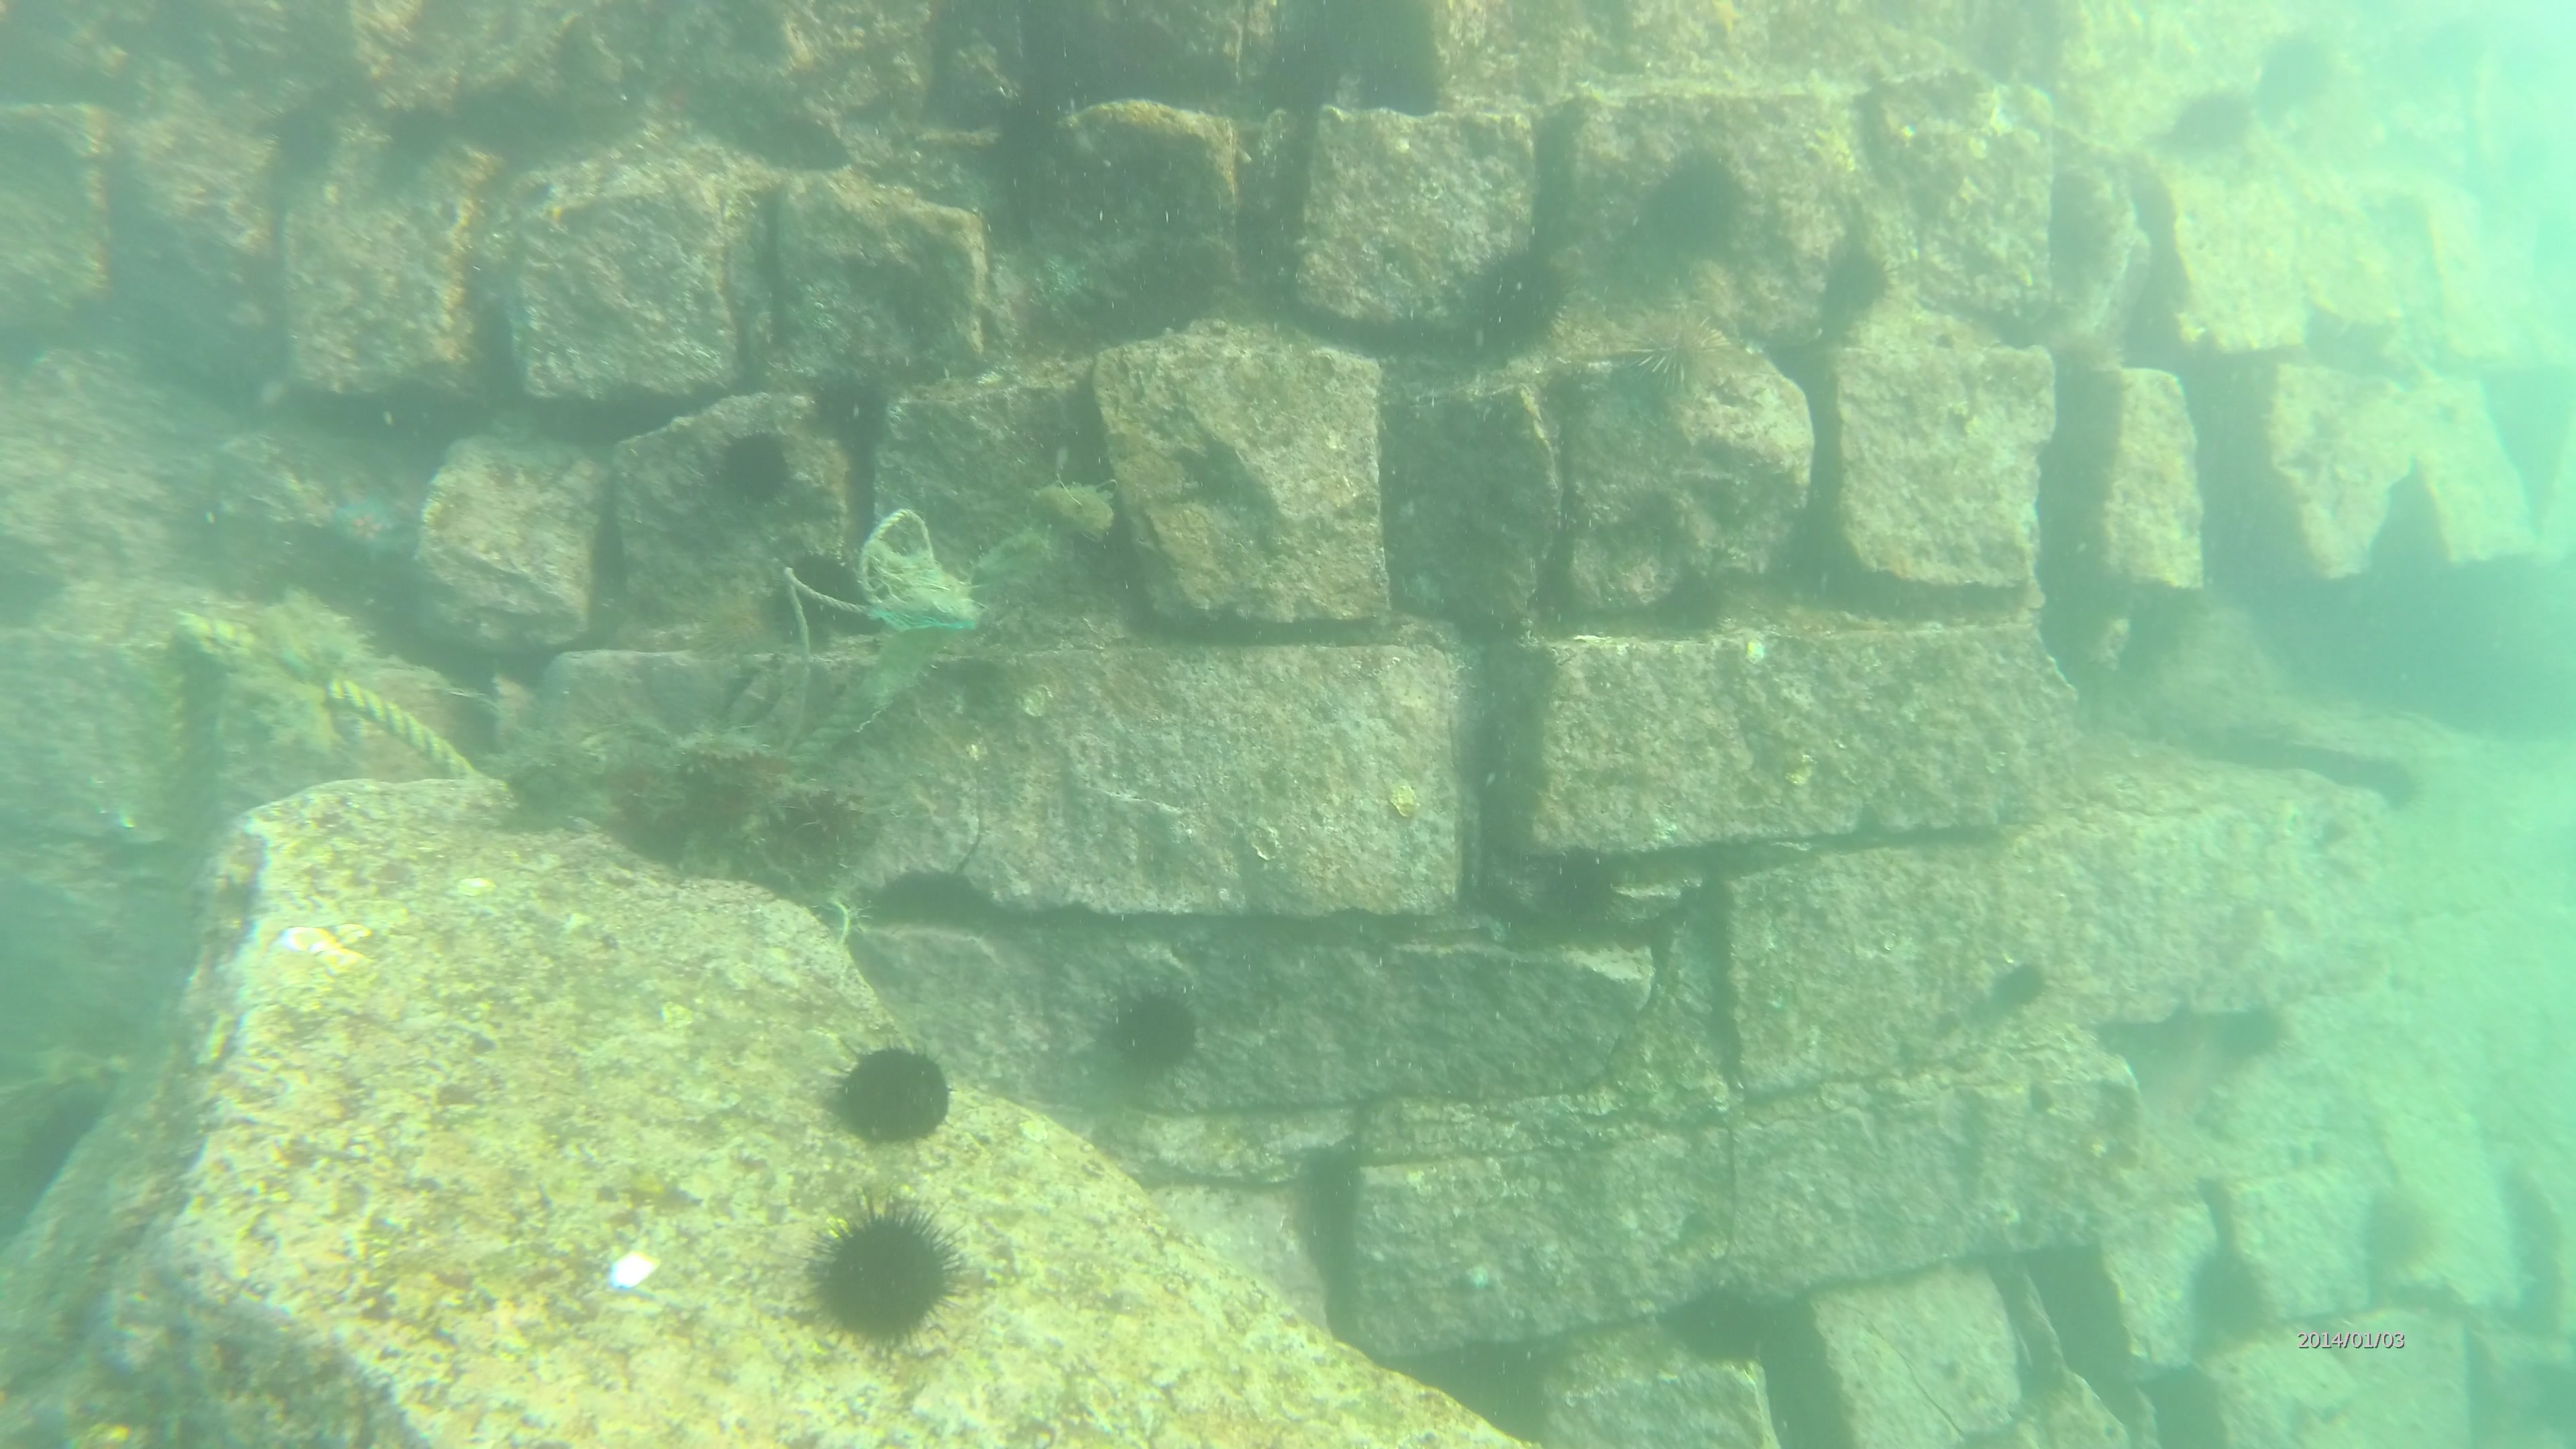echinus: (789, 1189, 987, 1361), (1638, 138, 1769, 260), (1470, 232, 1580, 357), (833, 1042, 961, 1150), (1097, 984, 1215, 1088), (1621, 294, 1737, 393), (1672, 1283, 1775, 1378), (2254, 27, 2341, 124), (2167, 78, 2254, 173), (2185, 1254, 2273, 1345), (713, 425, 800, 506), (1545, 844, 1624, 924), (1826, 244, 1907, 322), (780, 556, 865, 628), (809, 370, 888, 444), (694, 593, 777, 660), (1989, 952, 2070, 1016), (2224, 1001, 2289, 1053)
starfish: (326, 481, 421, 566)
